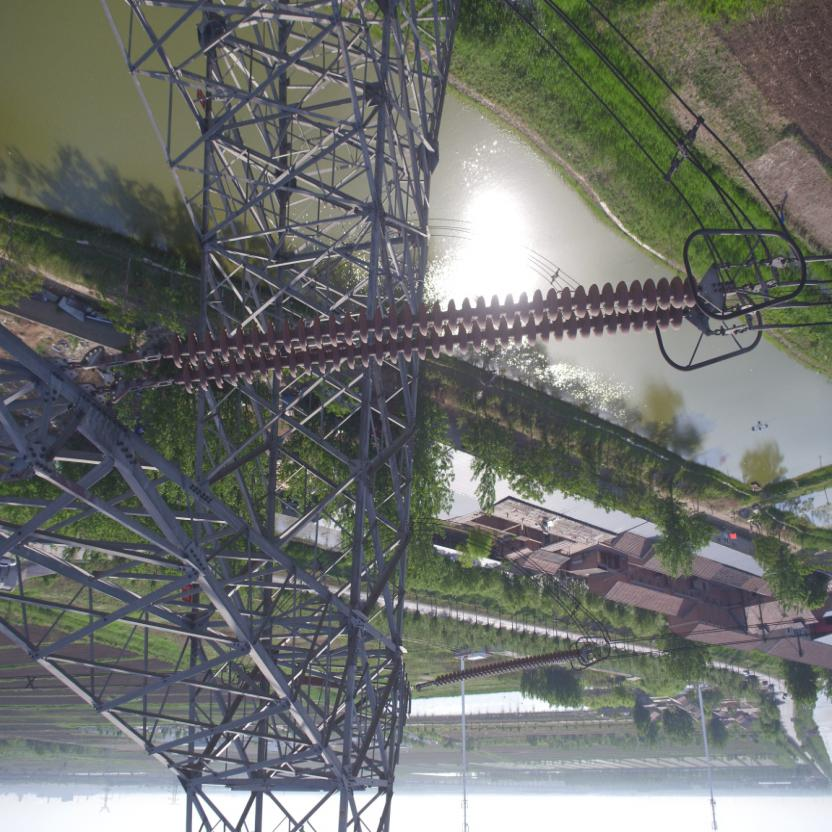insulator: (139, 272, 712, 404)
